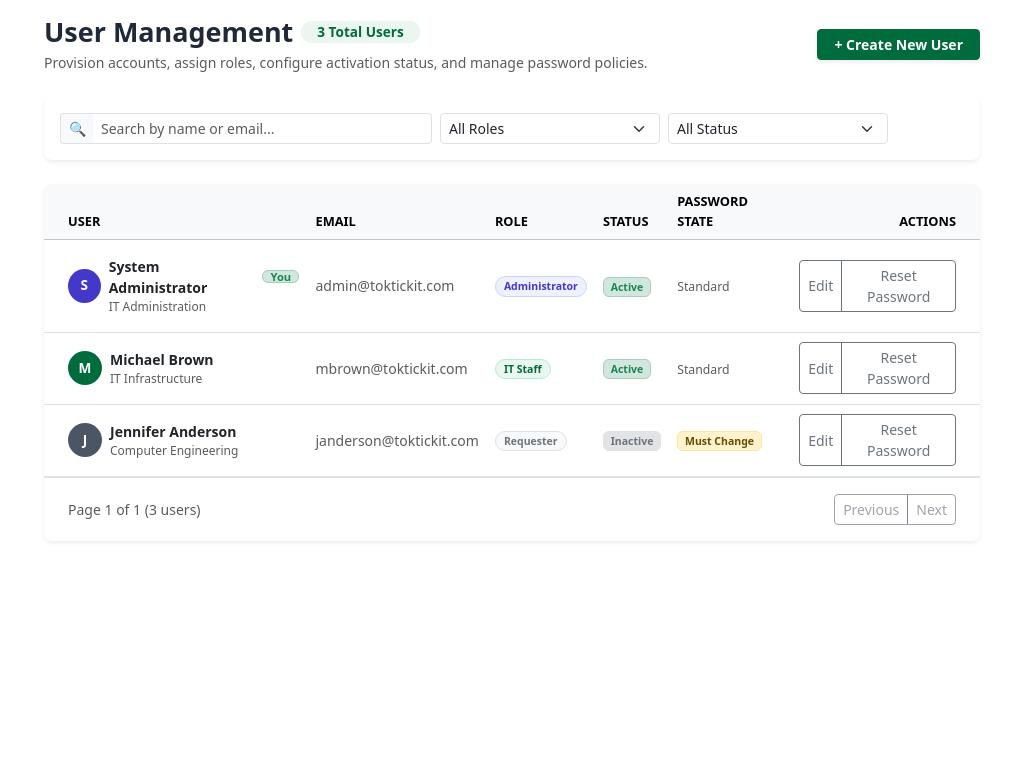
Lab 3 Issue 6: UserManagement Component (UI-04, FR-13, FR-14, FR-15) › opens Edit User modal and updates user details (FR-15)
Expected: the text "Michael Brown" is shown, [110, 349, 214, 370]
# Click Edit button for Michael Brown (id 5)
Click the button with id "edit-user-5-btn".
click(821, 368)  # box [799, 342, 842, 394]
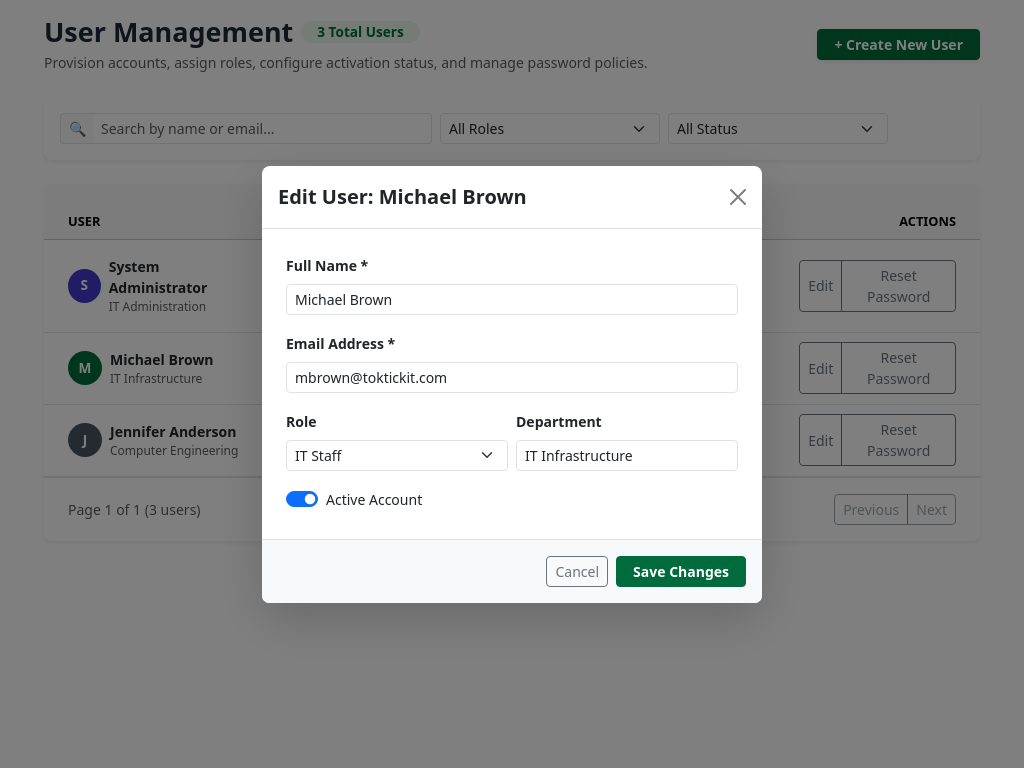
Result: the heading "Edit User: Michael Brown" is shown at [278, 182, 527, 212]
# Update name
Replace the text in the field with id "edit-user-fullname" with "Michael Brown Updated" at (512, 299), box [286, 284, 738, 314]
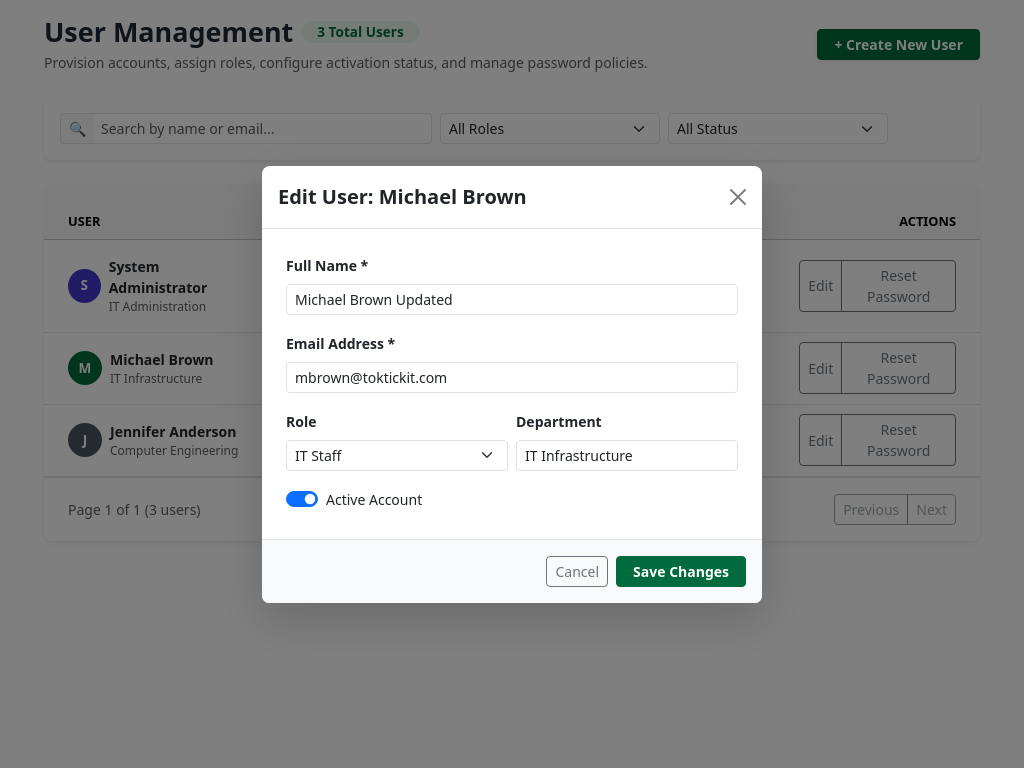
Click the button "Save Changes".
click(681, 571)  # box [616, 556, 746, 586]
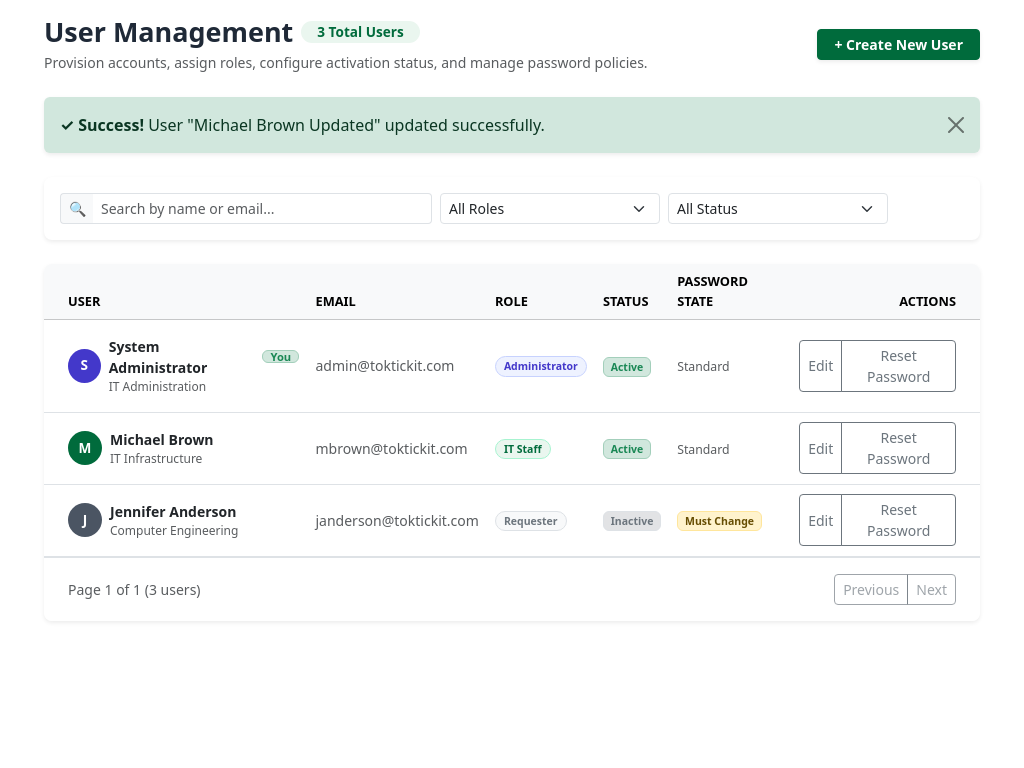
Result: the text "✓ Success! User \"Michael Brown Updated\" updated successfully." is shown at [44, 97, 980, 153]
